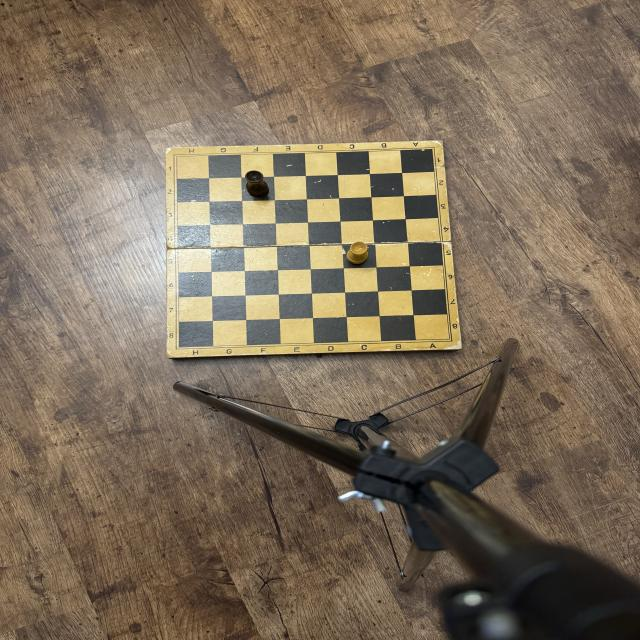black-rook: (245, 170, 269, 197)
white-rook: (346, 241, 369, 265)
